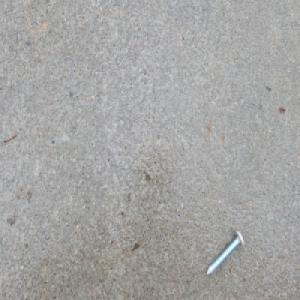Nail: (206, 225, 244, 275)
